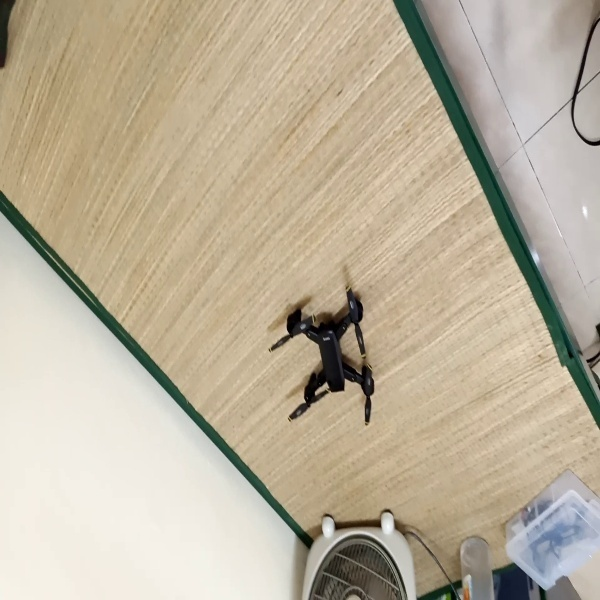drone: (265, 274, 382, 428)
